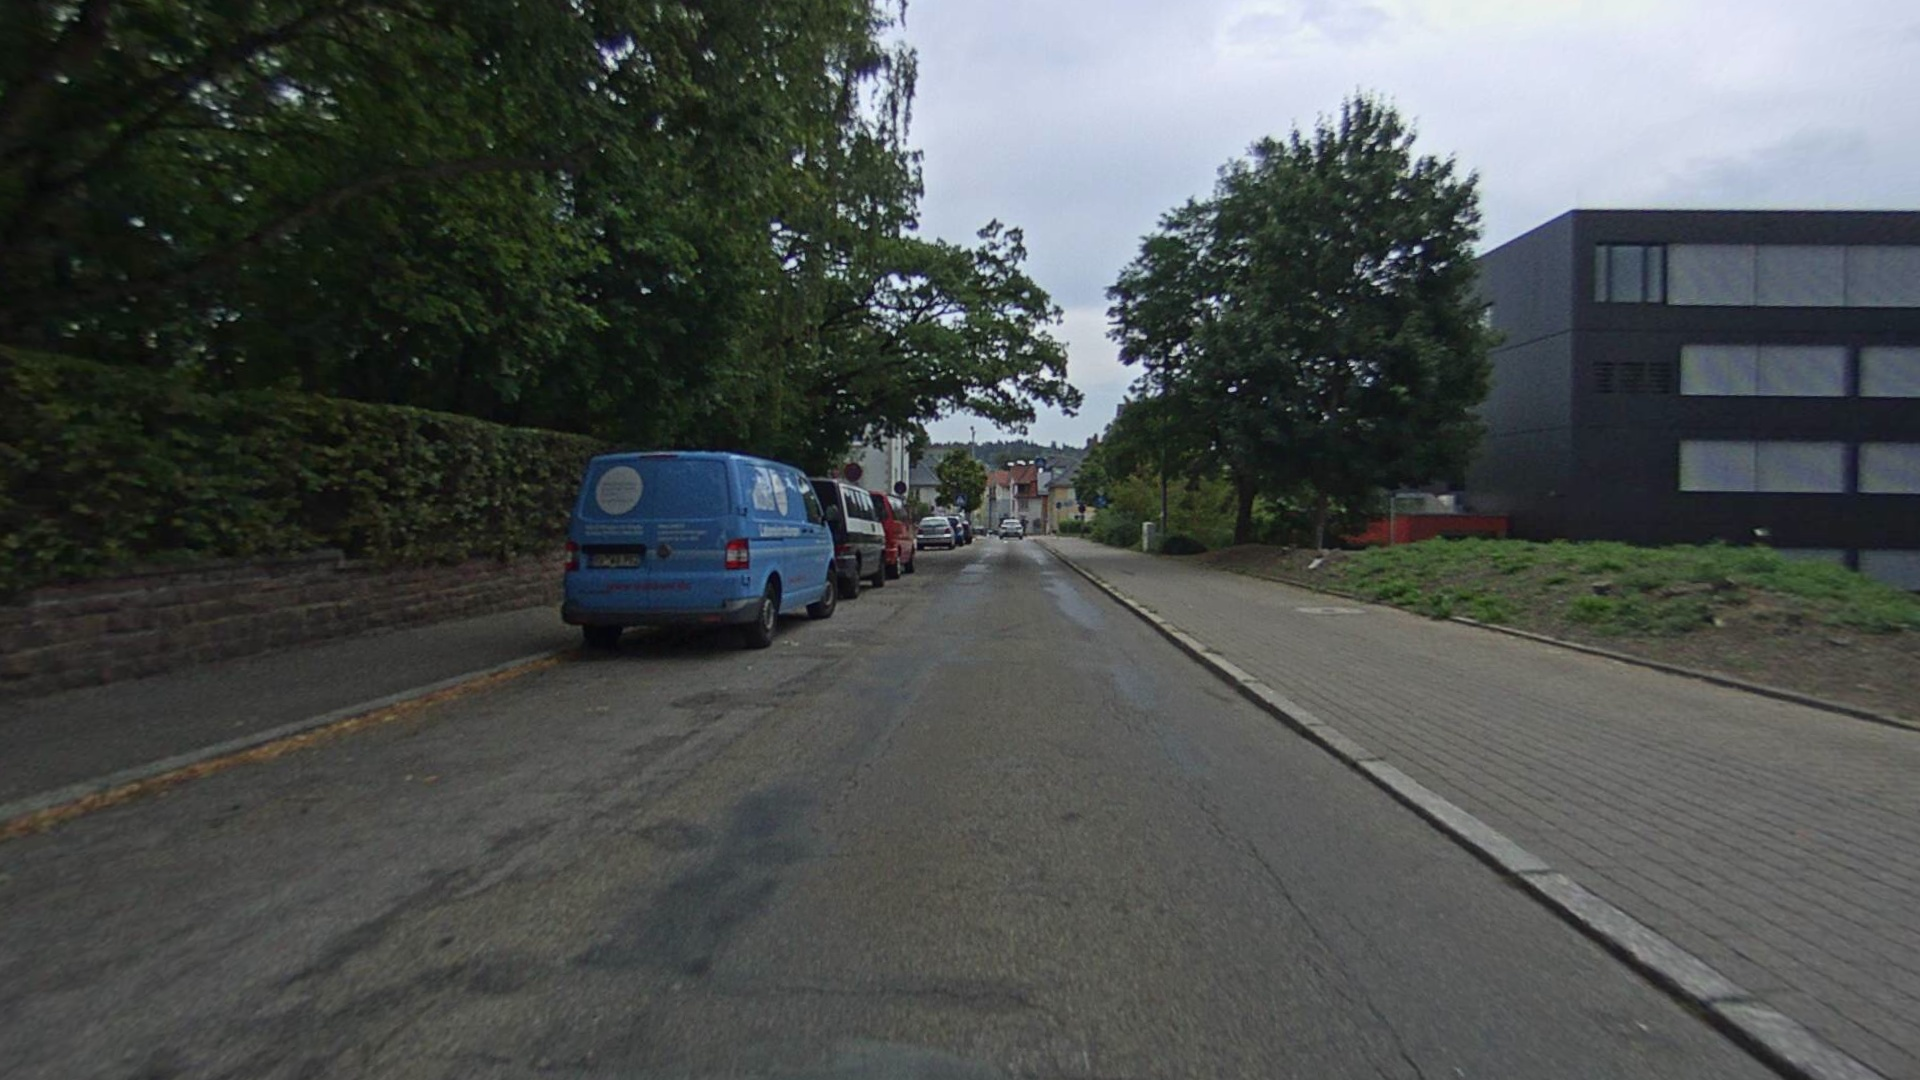car: (559, 448, 840, 651)
